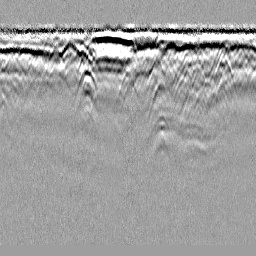cavity: (116, 65, 137, 101)
